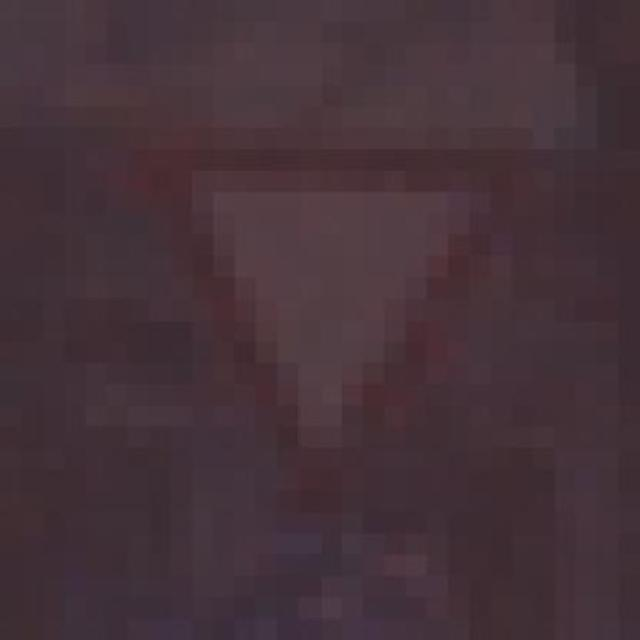Give Way: (107, 106, 576, 512)
